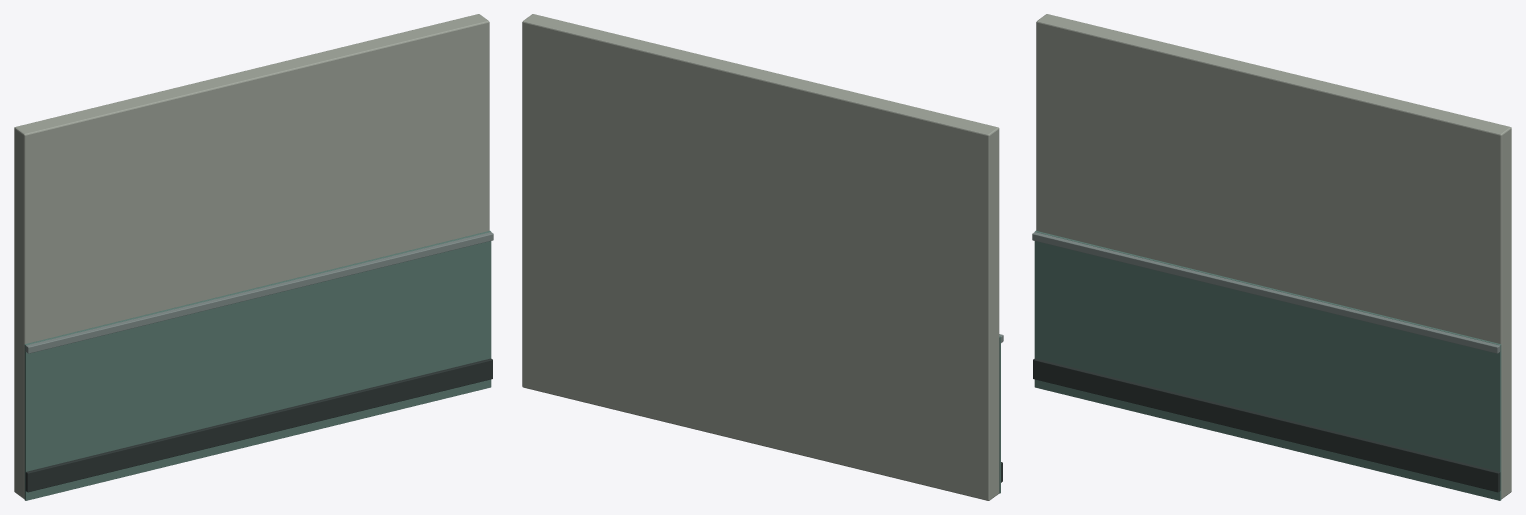
Rendered from H_Wall_4m.fbx.
3 views of the same model, side by side, from view 1: azimuth 30°, elevation 25°; view 2: azimuth 150°, elevation 25°; view 3: azimuth 330°, elevation 25° (orthographic).
Parts seen in each view (by area): view 1: H_Wall_4m; view 2: H_Wall_4m; view 3: H_Wall_4m.
Part boxes in pixels (left/top/right/bottom): H_Wall_4m: left=14, top=14, right=493, bottom=500; H_Wall_4m: left=522, top=14, right=1003, bottom=500; H_Wall_4m: left=1032, top=14, right=1511, bottom=500.
Bounding box in the file's own units: 4 × 3 × 0.2175.
